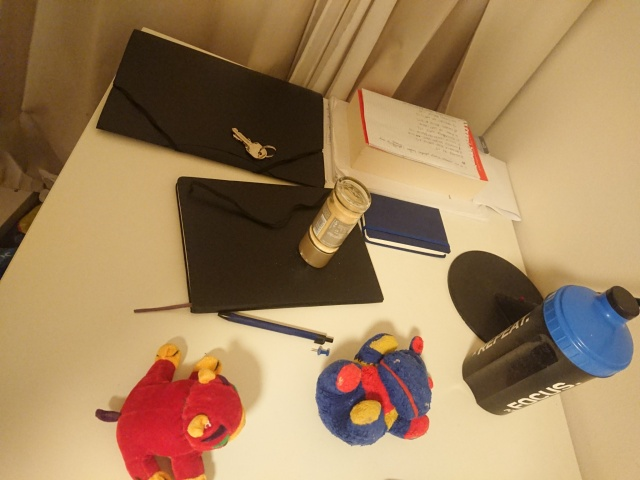Kotanyi Garlic Granules 70g: (296, 174, 373, 271)
